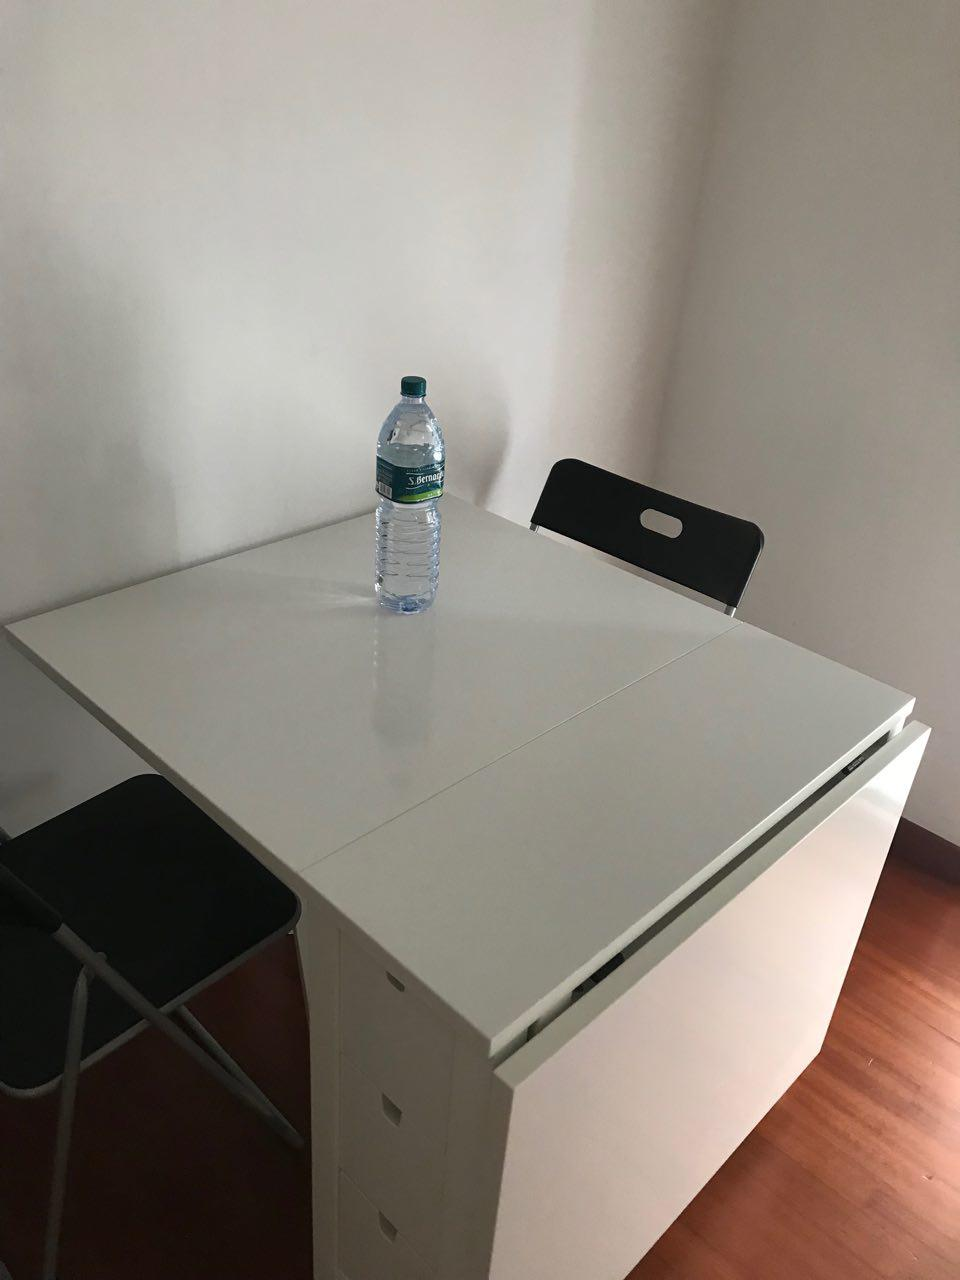san_bernardo: (373, 375, 446, 616)
